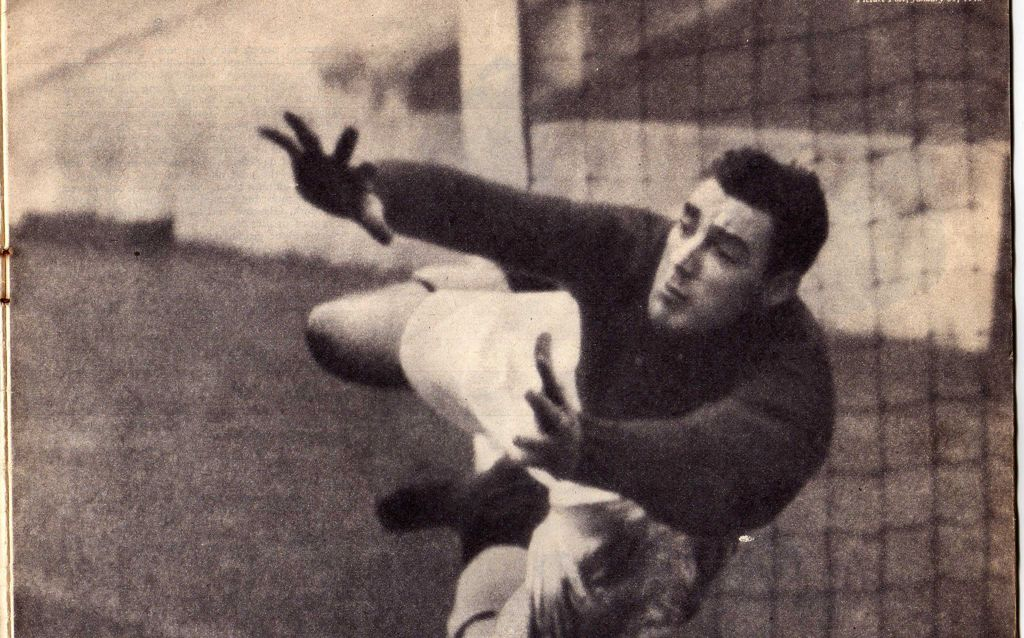Human_hand: (255, 108, 396, 247), (530, 356, 589, 471)
